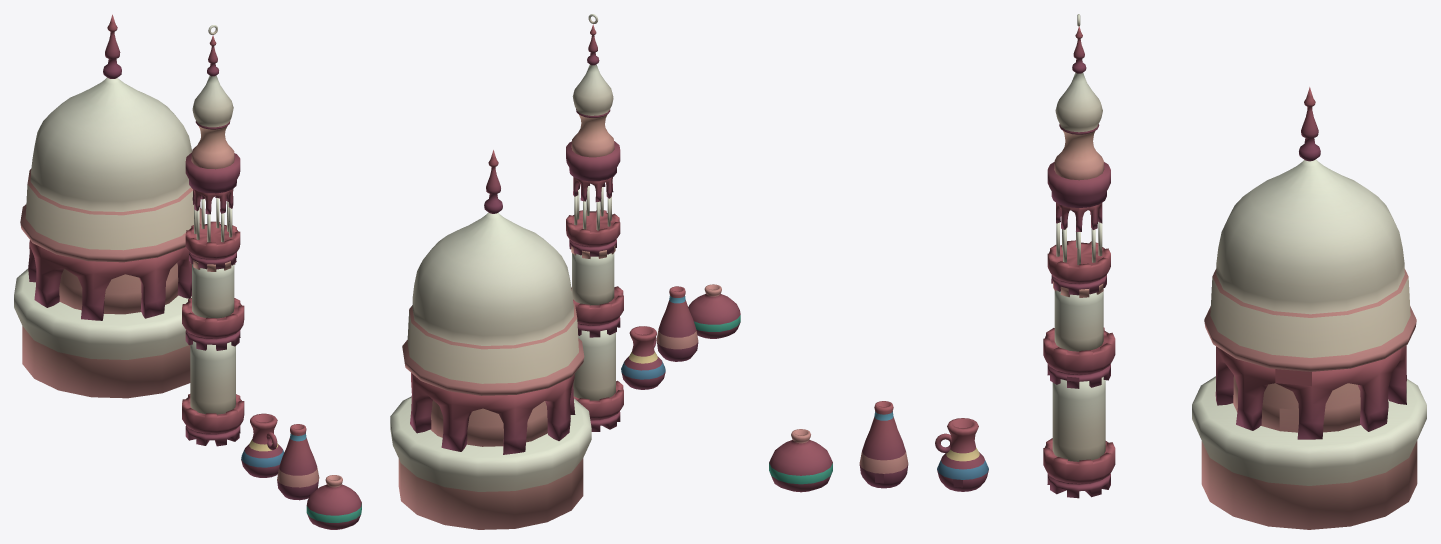
The model's file is Desert_Temple_Set_03.fbx.
3 renders of one model, left to right at view 1: azimuth 30°, elevation 25°; view 2: azimuth 150°, elevation 25°; view 3: azimuth 270°, elevation 25°, orthographic. The views are drawn at different scales.
Parts seen in each view (by area): view 1: Temples_Dome, Temples_Base, Temples_Bottom, Temples_Midsection, Temples_Top, Pot2, Pot3, Pot1, Temples_Arches; view 2: Temples_Dome, Temples_Base, Temples_Bottom, Temples_Top, Temples_Midsection, Pot2, Pot3, Pot1, Temples_Arches; view 3: Temples_Dome, Temples_Base, Temples_Bottom, Temples_Top, Temples_Midsection, Pot2, Pot3, Pot1, Temples_Arches.
Part boxes in pixels (left/top/right/bottom): Temples_Dome: left=20, top=14, right=201, bottom=262; Temples_Base: left=14, top=240, right=191, bottom=398; Temples_Bottom: left=182, top=298, right=244, bottom=446; Temples_Midsection: left=185, top=198, right=240, bottom=318; Temples_Top: left=185, top=25, right=240, bottom=193; Pot2: left=277, top=424, right=319, bottom=500; Pot3: left=306, top=475, right=361, bottom=529; Pot1: left=241, top=413, right=284, bottom=477; Temples_Arches: left=192, top=189, right=233, bottom=214; Temples_Dome: left=402, top=150, right=584, bottom=395; Temples_Base: left=390, top=373, right=591, bottom=529; Temples_Bottom: left=571, top=286, right=623, bottom=431; Temples_Top: left=566, top=14, right=620, bottom=181; Temples_Midsection: left=566, top=186, right=620, bottom=305; Pot2: left=656, top=286, right=698, bottom=361; Pot3: left=688, top=284, right=740, bottom=338; Pot1: left=621, top=326, right=665, bottom=389; Temples_Arches: left=573, top=177, right=613, bottom=201; Temples_Dome: left=1204, top=87, right=1416, bottom=371; Temples_Base: left=1192, top=345, right=1426, bottom=529; Temples_Bottom: left=1043, top=327, right=1115, bottom=498; Temples_Top: left=1047, top=14, right=1110, bottom=207; Temples_Midsection: left=1047, top=221, right=1110, bottom=351; Pot2: left=859, top=401, right=908, bottom=488; Pot3: left=769, top=429, right=832, bottom=492; Pot1: left=935, top=418, right=988, bottom=491; Temples_Arches: left=1056, top=202, right=1102, bottom=231.
Bounding box in the file's own units: 9.86 × 21.84 × 27.6.
Materials: 1 (1 with a texture image).
